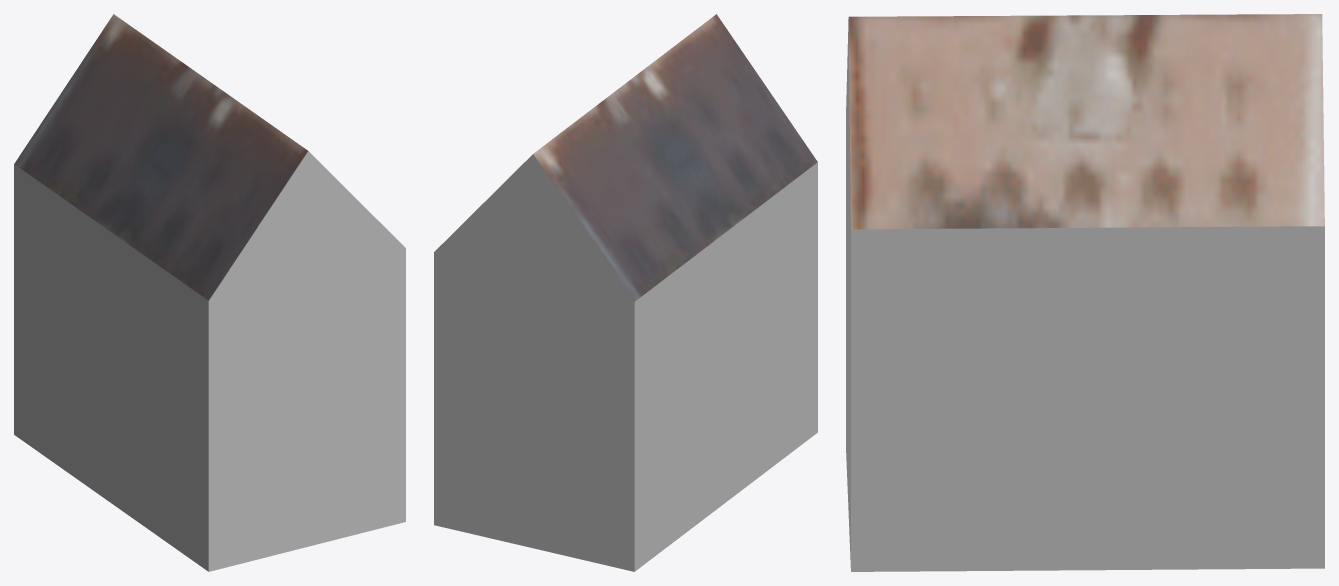
The model's file is DEBW_0010007Tx82.gltf.
The picture shows the model from 3 angles, left to right: view 1: azimuth 30°, elevation 25°; view 2: azimuth 150°, elevation 25°; view 3: azimuth 270°, elevation 25°; orthographic projection. The views are drawn at different scales.
Visible parts, largest first — view 1: Z_UP; view 2: Z_UP; view 3: Z_UP.
Part boxes in pixels (box(x1,y1,x2,y2)): Z_UP: box(14, 14, 405, 571); Z_UP: box(434, 14, 817, 571); Z_UP: box(846, 14, 1324, 571).
Bounding box in the file's own units: 11.34 × 20.98 × 18.39.
Materials: 2 (1 with a texture image).
